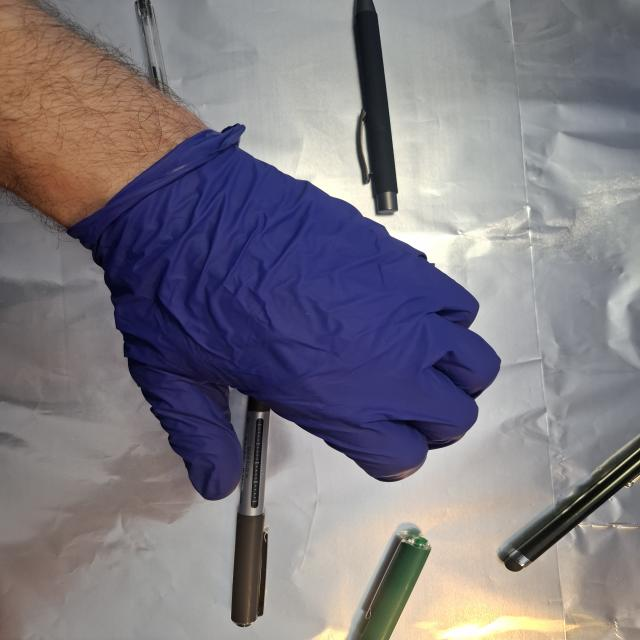glove_on: (71, 120, 507, 504)
